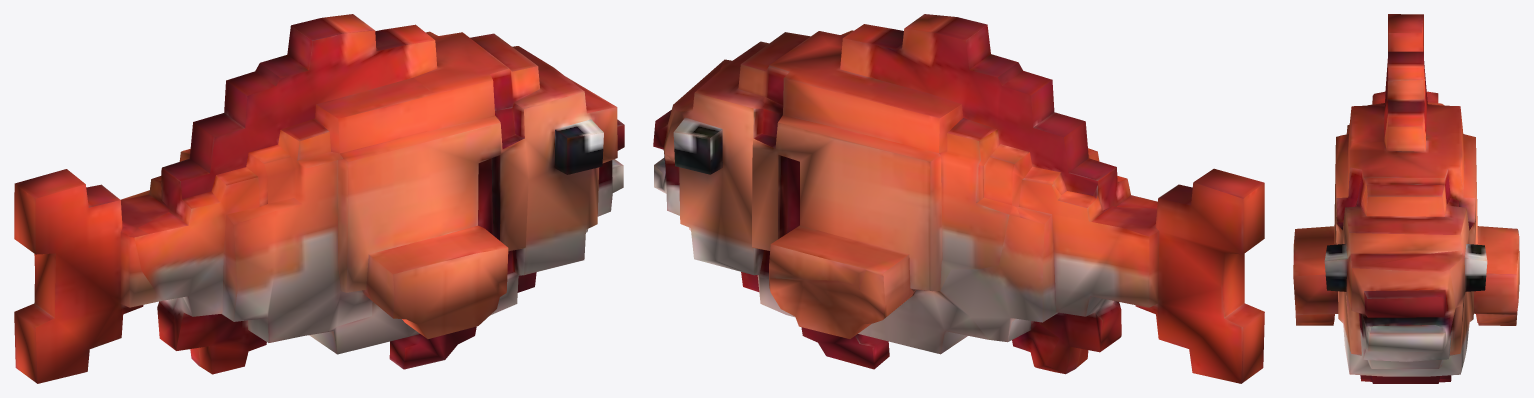
Rendered from fish-salmon.glb.
3 views of the same model, side by side, from view 1: azimuth 30°, elevation 25°; view 2: azimuth 150°, elevation 25°; view 3: azimuth 270°, elevation 25° (orthographic). The views are drawn at different scales.
Visible parts, largest first — view 1: material.001; view 2: material.001; view 3: material.001.
Part boxes in pixels (x1,y1,x2,y2): material.001: [14, 14, 624, 383]; material.001: [653, 14, 1264, 383]; material.001: [1293, 14, 1519, 383].
Size of the model in its own units: 1.13 by 0.6274 by 0.4562.
Materials: 1 (1 with a texture image).
